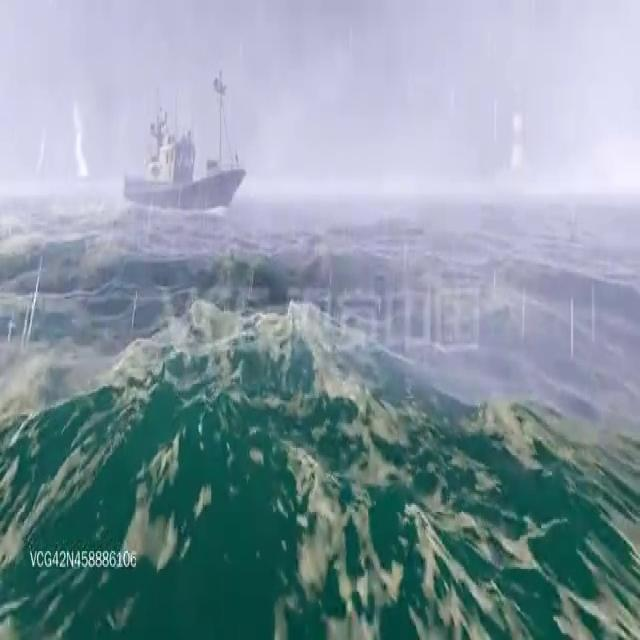fishing boat: (117, 74, 246, 208)
